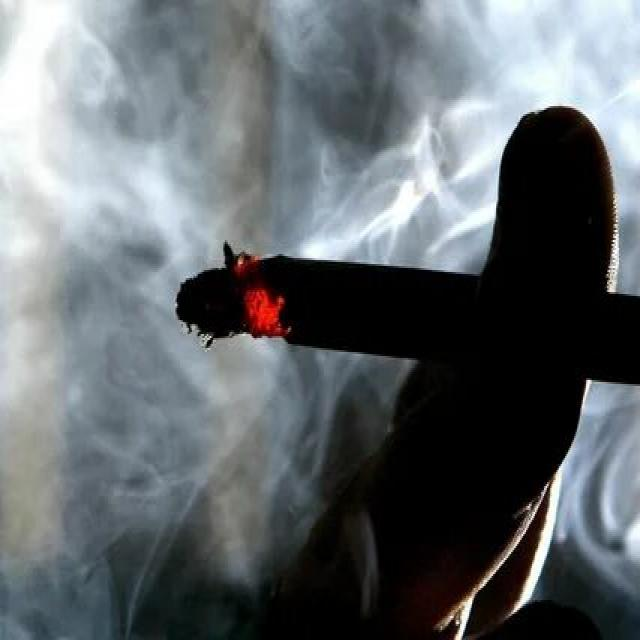smoke: (169, 238, 640, 392)
